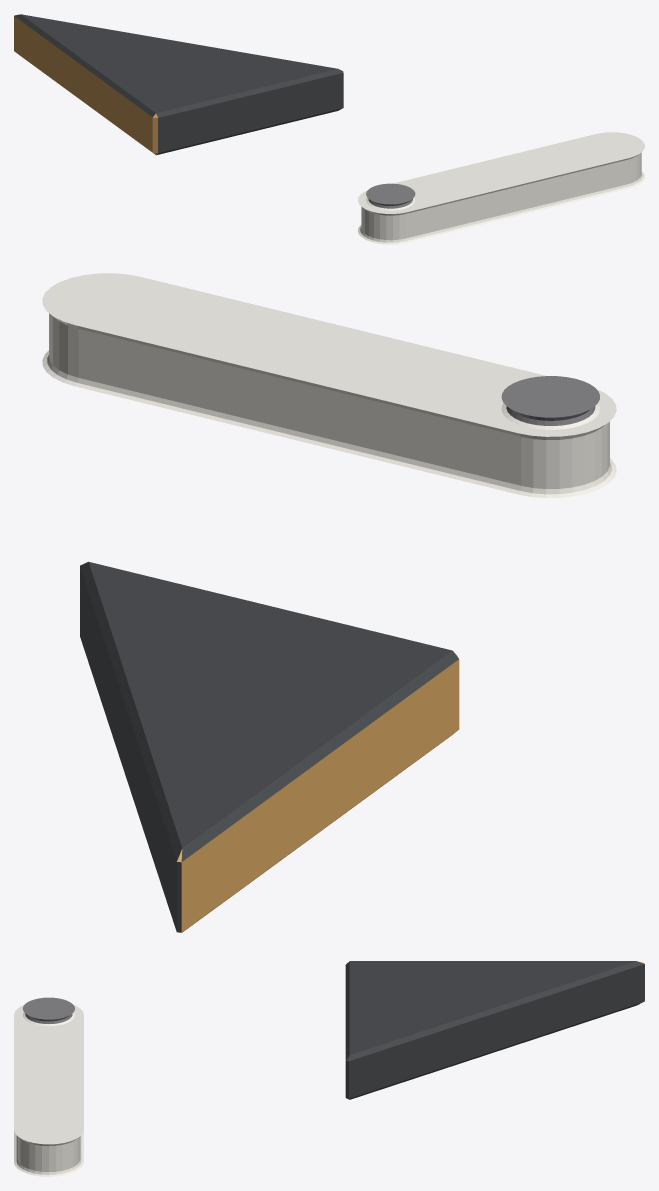
File: PlinkoPinball_Mechanics_Blockout.fbx
3 views of the same model, one above another, from view 1: azimuth 30°, elevation 25°; view 2: azimuth 150°, elevation 25°; view 3: azimuth 270°, elevation 25° (orthographic). The views are drawn at different scales.
Visible parts, largest first — view 1: PF_Sling_Model, PF_Flipper_Model; view 2: PF_Sling_Model, PF_Flipper_Model; view 3: PF_Sling_Model, PF_Flipper_Model.
Boxes of the visible parts, box(x1,y1,x2,y2) form: PF_Sling_Model: box(14, 14, 343, 155); PF_Flipper_Model: box(358, 132, 644, 244); PF_Sling_Model: box(80, 561, 459, 932); PF_Flipper_Model: box(42, 273, 616, 497); PF_Sling_Model: box(345, 961, 644, 1099); PF_Flipper_Model: box(14, 997, 83, 1176).
Bounding box in the file's own units: 189 × 22.2 × 282.
